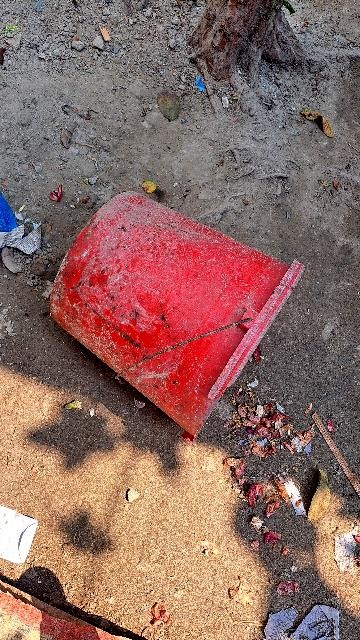hardplastic: (21, 152, 308, 444)
